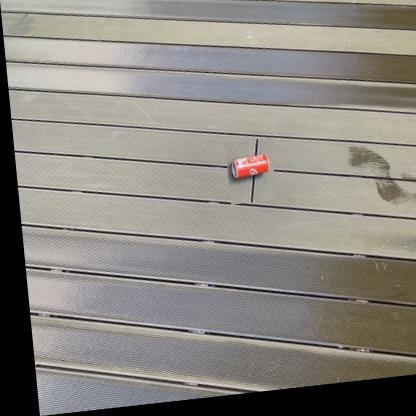trash: (231, 154, 269, 178)
